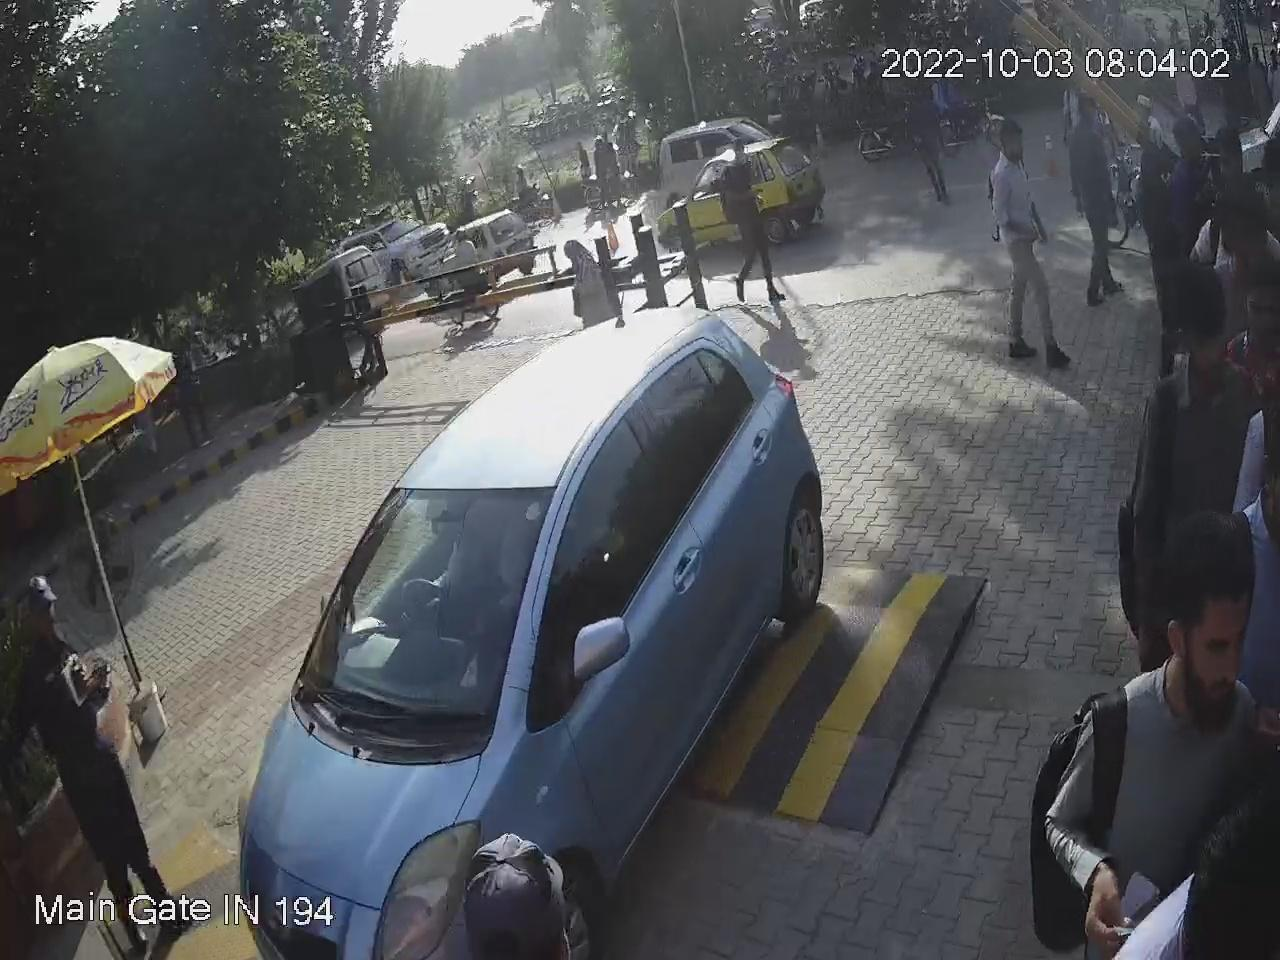windshield: (278, 480, 558, 772)
